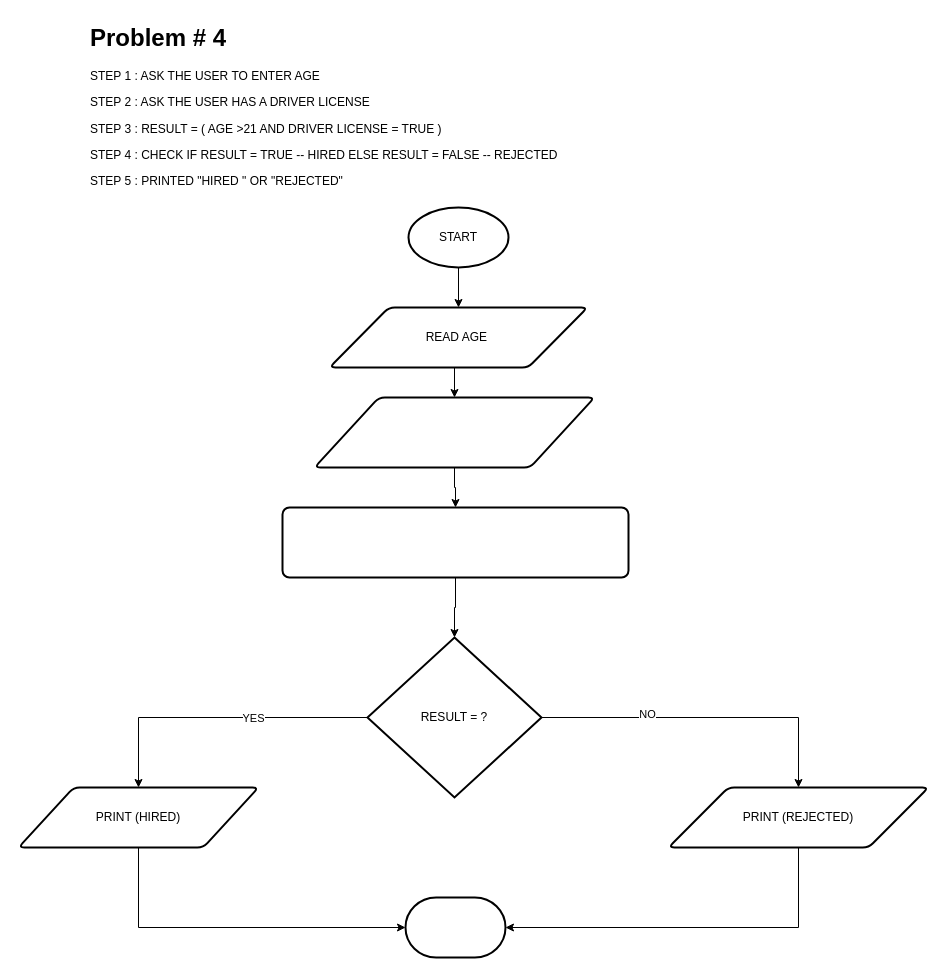
Some shapes in this 946 by 975 pixel diagram are drawn without their labels. Here are the shapes that lost their labels. From the top down, the box of each, then its label:
(313, 396, 595, 468): READ HAS DRIVERLICENSE
(281, 506, 629, 578): RESULT = (AGE >21 AND DRIVERLICENSE=TRUE )
(404, 896, 506, 958): END
